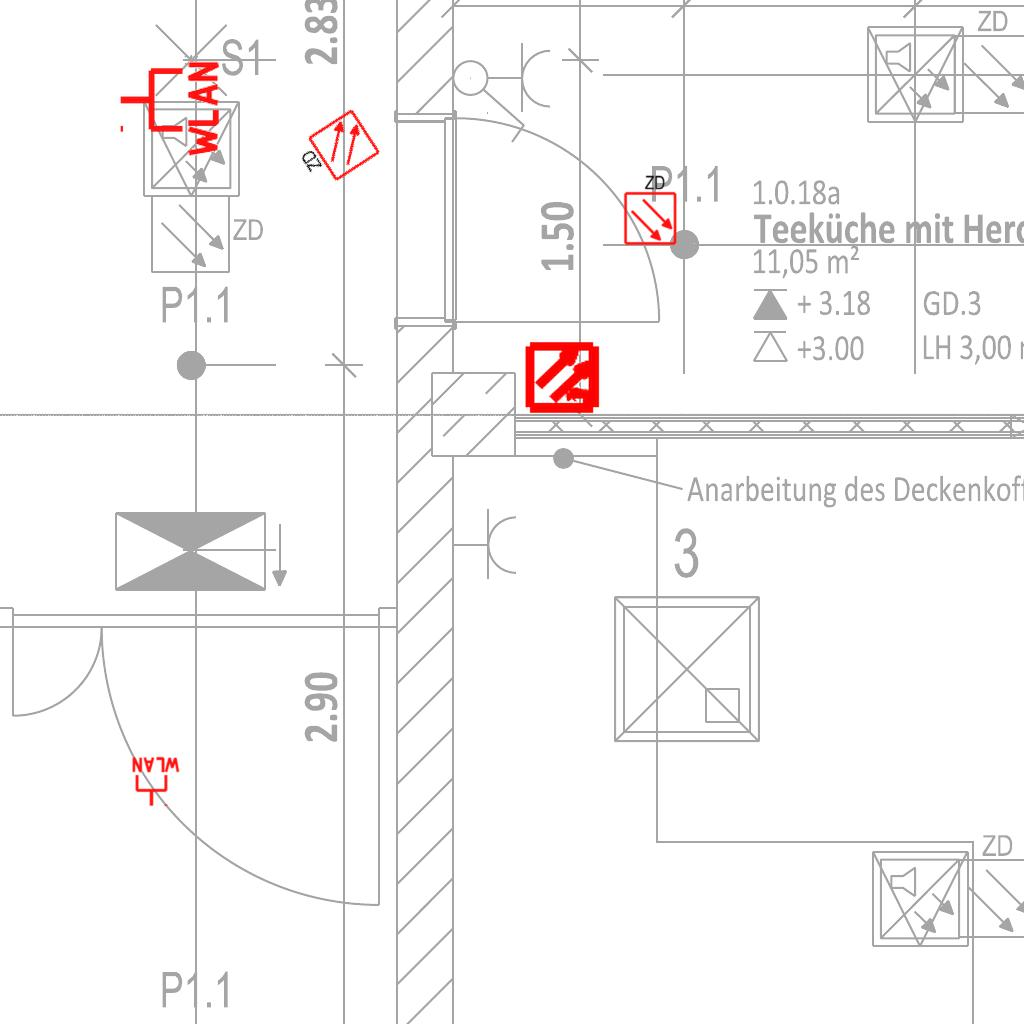OT_Multisensormelder_(Kombination_RMO_WMD): (508, 321, 621, 434)
WLAN: (116, 57, 221, 161), (130, 756, 182, 808)
ZD_Melder_in_Zwischendecke_mit_Revisionsoeffnung_mind_40_x_40_cm: (289, 106, 384, 196), (621, 172, 678, 246)
